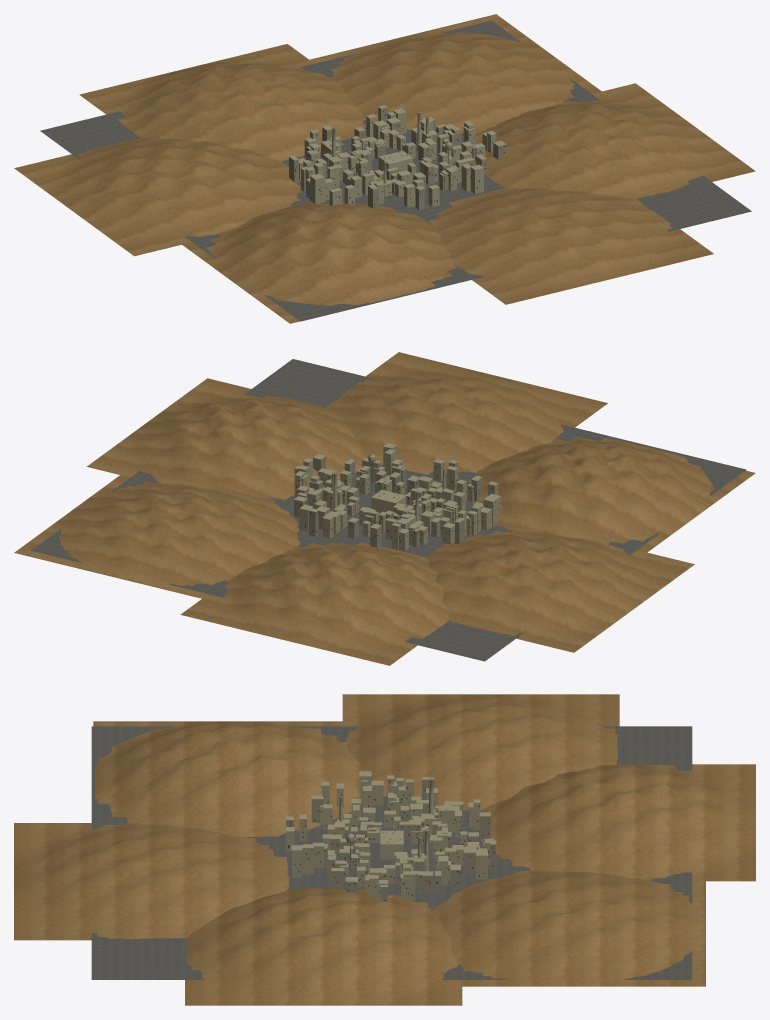
Rendered from teras_cevre.glb.
The picture shows the model from 3 angles, top to bottom: view 1: azimuth 30°, elevation 25°; view 2: azimuth 150°, elevation 25°; view 3: azimuth 270°, elevation 25°; orthographic projection. The views are drawn at different scales.
Parts seen in each view (by area): view 1: K_tepe1, K_tepe3, K_tepe2, K_tepe0, K_tepe4, K_tepe5, K_zemin, K_ev, K_evs, K_bina; view 2: K_tepe4, K_tepe3, K_tepe5, K_tepe1, K_tepe2, K_tepe0, K_zemin, K_ev, K_evs, K_bina; view 3: K_tepe0, K_tepe1, K_tepe4, K_tepe5, K_tepe2, K_tepe3, K_zemin, K_ev, K_evs, K_bina, K_pen.
Part boxes in pixels (x1,y1,x2,y2): K_tepe1: (428,188,713,304); K_tepe3: (14,138,302,256); K_tepe2: (176,202,457,323); K_tepe0: (474,83,755,199); K_tepe4: (79,44,366,161); K_tepe5: (291,14,615,133); K_zemin: (40,20,751,321); K_ev: (289,105,506,207); K_evs: (289,107,506,210); K_bina: (378,151,413,172); K_tepe4: (180,542,449,665); K_tepe3: (426,530,694,652); K_tepe5: (14,465,300,603); K_tepe1: (326,352,607,474); K_tepe2: (467,437,755,556); K_tepe0: (86,378,365,500); K_zemin: (31,359,746,661); K_ev: (294,443,500,550); K_evs: (294,456,482,547); K_bina: (371,489,406,512); K_tepe0: (185,888,462,1005); K_tepe1: (14,823,289,940); K_tepe4: (481,764,755,881); K_tepe5: (433,870,705,986); K_tepe2: (93,721,361,837); K_tepe3: (342,694,619,810); K_zemin: (91,726,692,979); K_ev: (286,771,496,899); K_evs: (286,780,496,901); K_bina: (380,830,403,859); K_pen: (287,777,495,900).
Size of the model in its own units: 637 by 47 by 642.
13 materials, 12 textured.
